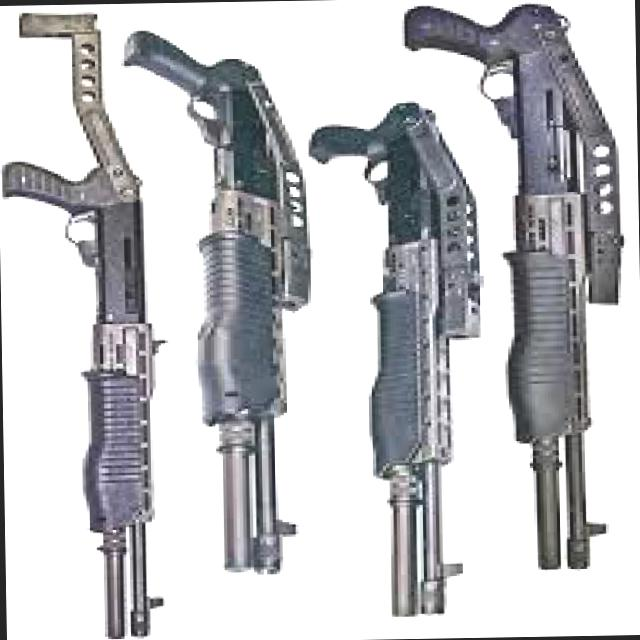long weapon: (375, 7, 640, 586), (116, 19, 306, 599), (2, 4, 174, 639), (295, 97, 476, 630)
